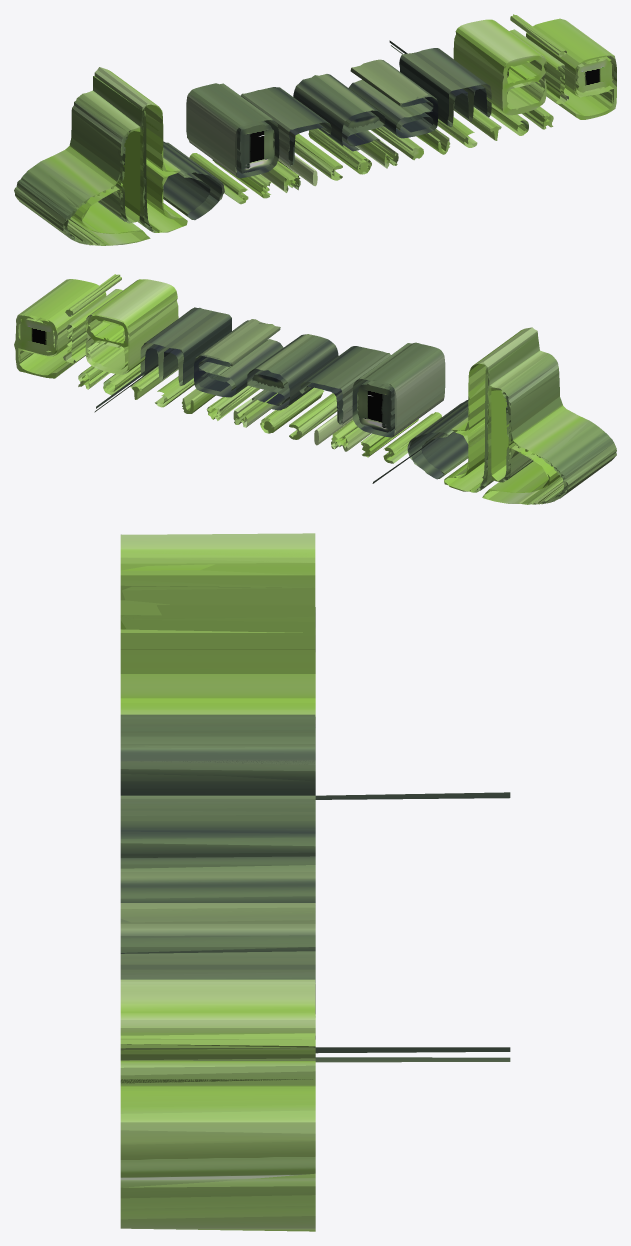
File: dream-big-semiconductor-inc.glb
The picture shows the model from 3 angles, top to bottom: view 1: azimuth 30°, elevation 25°; view 2: azimuth 150°, elevation 25°; view 3: azimuth 270°, elevation 25°; orthographic projection. The views are drawn at different scales.
Parts seen in each view (by area): view 1: path2838; view 2: path2838; view 3: path2838.
Boxes of the visible parts, left/top/right/bottom form: path2838: left=14, top=14, right=616, bottom=245; path2838: left=14, top=274, right=616, bottom=504; path2838: left=120, top=533, right=510, bottom=1231.
Bounding box in the file's own units: 0.0328 × 0.00775 × 0.01.
1 material, 1 textured.
